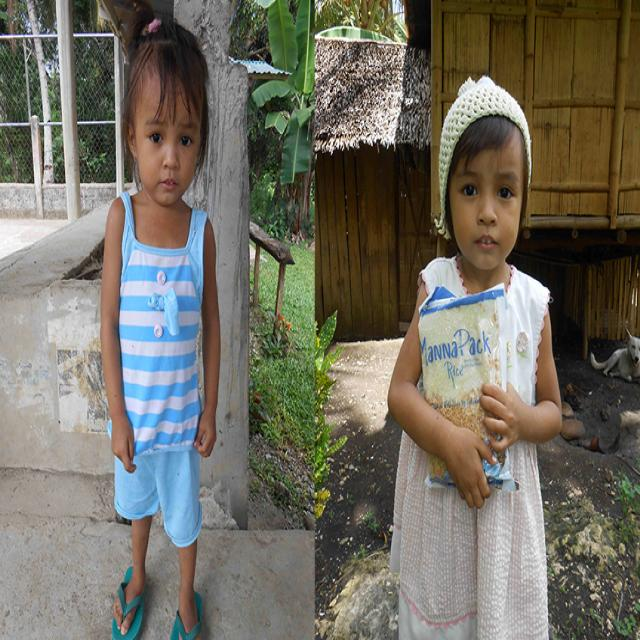child: (382, 45, 567, 640), (89, 8, 233, 640)
